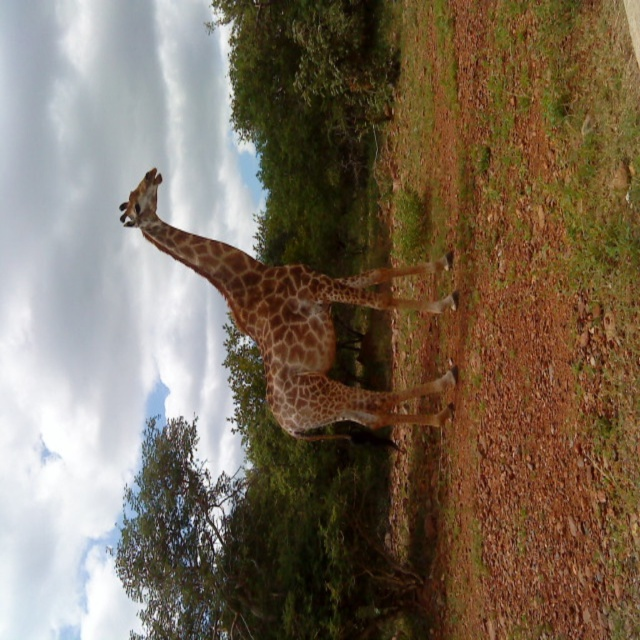Giraffe: (107, 152, 448, 455)
